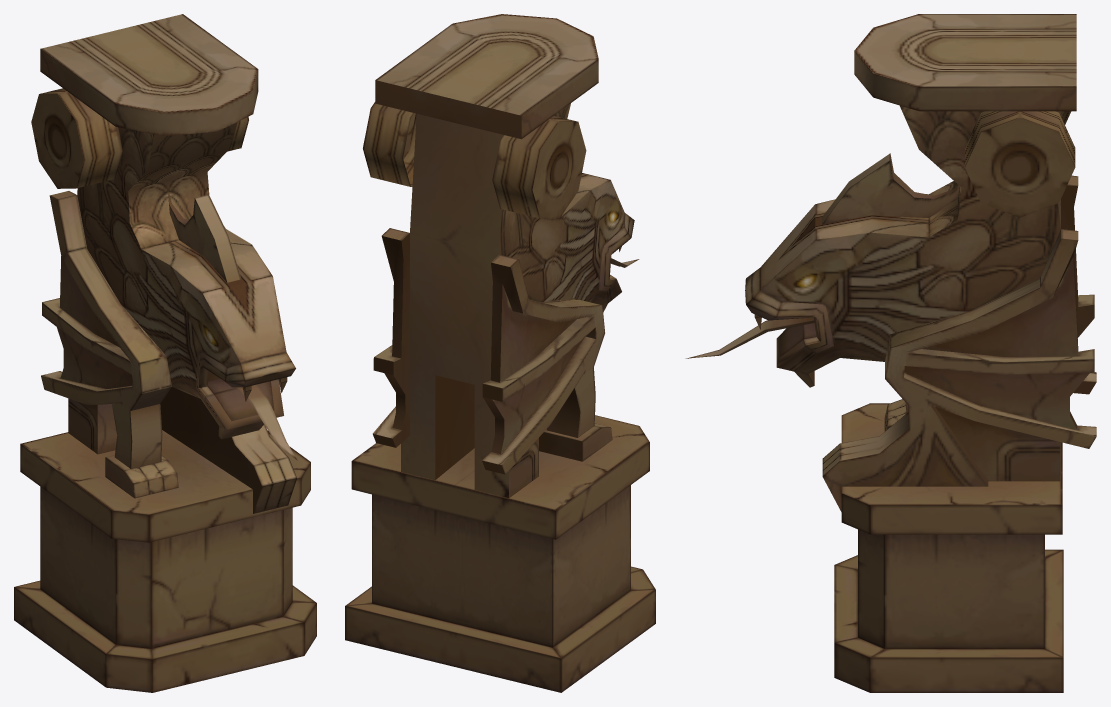
Rendered from 2_SM_DiaoSu_01.FBX.
The picture shows the model from 3 angles, left to right: view 1: azimuth 30°, elevation 25°; view 2: azimuth 150°, elevation 25°; view 3: azimuth 270°, elevation 25°; orthographic projection. The views are drawn at different scales.
Visible parts, largest first — view 1: 2_SM_DiaoSu_01; view 2: 2_SM_DiaoSu_01; view 3: 2_SM_DiaoSu_01.
Part boxes in pixels (left/top/right/bottom): 2_SM_DiaoSu_01: left=14, top=14, right=316, bottom=692; 2_SM_DiaoSu_01: left=345, top=14, right=655, bottom=692; 2_SM_DiaoSu_01: left=685, top=14, right=1096, bottom=692.
Bounding box in the file's own units: 165 × 419 × 267.
